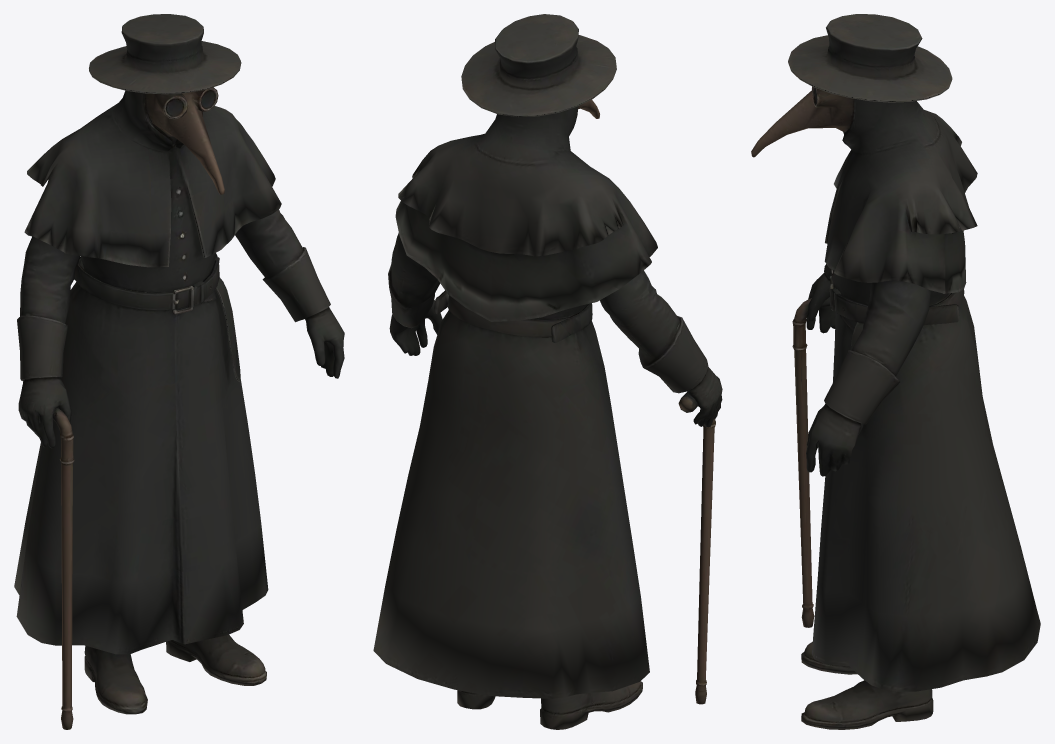
Rendered from 0504_plague_cultist.glb.
3 renders of one model, left to right at view 1: azimuth 30°, elevation 25°; view 2: azimuth 150°, elevation 25°; view 3: azimuth 270°, elevation 25°, orthographic. The views are drawn at different scales.
Parts seen in each view (by area): view 1: tripo_node_0eae2a18-1ffb-4e16-9981-4de661fa7f86; view 2: tripo_node_0eae2a18-1ffb-4e16-9981-4de661fa7f86; view 3: tripo_node_0eae2a18-1ffb-4e16-9981-4de661fa7f86.
Part boxes in pixels (x1,y1,x2,y2): tripo_node_0eae2a18-1ffb-4e16-9981-4de661fa7f86: (14, 14, 344, 729); tripo_node_0eae2a18-1ffb-4e16-9981-4de661fa7f86: (373, 14, 722, 729); tripo_node_0eae2a18-1ffb-4e16-9981-4de661fa7f86: (751, 14, 1040, 729).
Bounding box in the file's own units: 0.5093 × 0.9995 × 0.394.
Materials: 1 (1 with a texture image).
